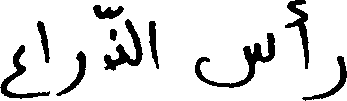أ: (285, 0, 307, 99)
ا: (35, 19, 48, 66), (149, 19, 158, 69)
ذ: (104, 28, 126, 71)
ر: (305, 11, 345, 99), (56, 48, 84, 96)
س: (193, 30, 274, 87)
ع: (0, 43, 33, 99)
ل: (124, 17, 140, 67)
